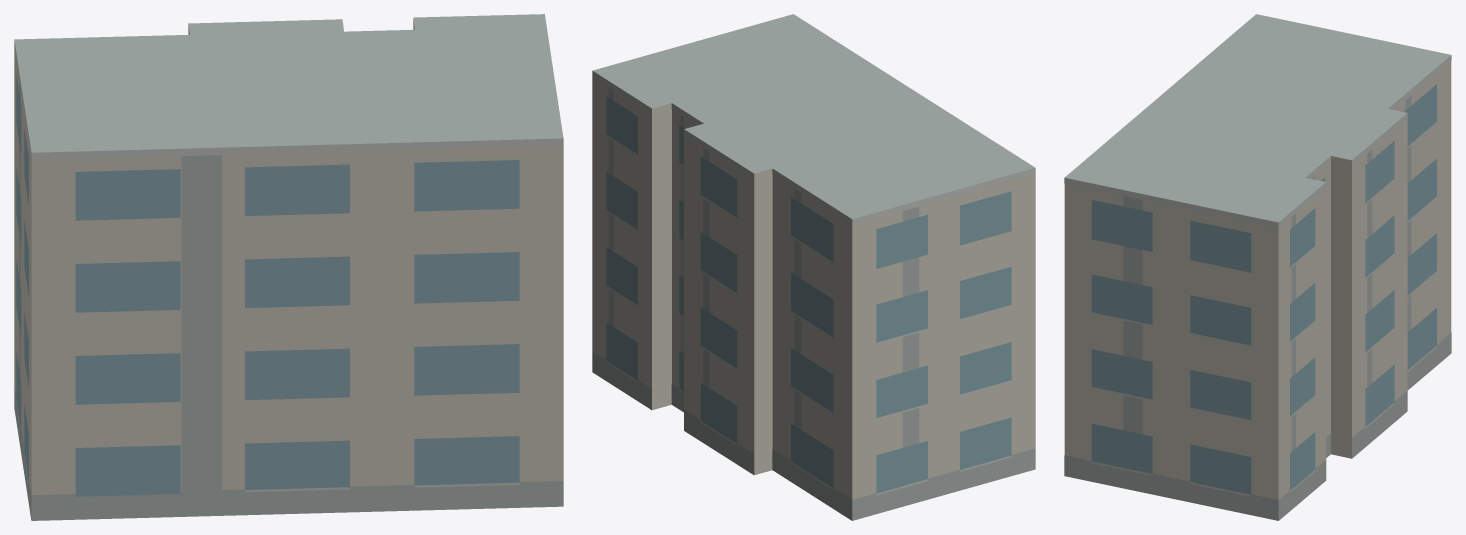
Rendered from residential-f60036a2-f88c-4695-9a10-224cb56fcf6c.glb.
3 views of the same model, side by side, from view 1: azimuth 30°, elevation 25°; view 2: azimuth 150°, elevation 25°; view 3: azimuth 270°, elevation 25° (orthographic). The views are drawn at different scales.
Visible parts, largest first — view 1: residential-f60036a2-f88c-4695-9a10-224cb56fcf6c.tmp; view 2: residential-f60036a2-f88c-4695-9a10-224cb56fcf6c.tmp; view 3: residential-f60036a2-f88c-4695-9a10-224cb56fcf6c.tmp.
Boxes of the visible parts, <box> form: residential-f60036a2-f88c-4695-9a10-224cb56fcf6c.tmp: <box>14,14,563,520</box>; residential-f60036a2-f88c-4695-9a10-224cb56fcf6c.tmp: <box>592,14,1035,520</box>; residential-f60036a2-f88c-4695-9a10-224cb56fcf6c.tmp: <box>1064,14,1451,520</box>.
Bounding box in the file's own units: 17.99 × 12 × 14.11.
